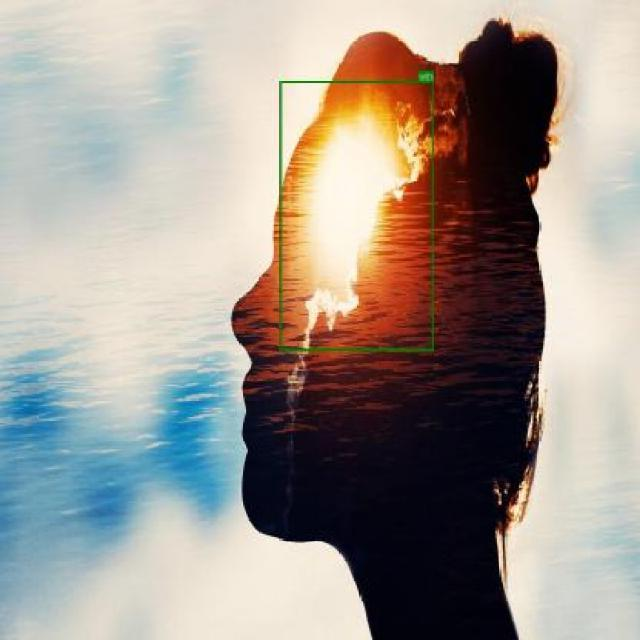other: (280, 80, 434, 351)
